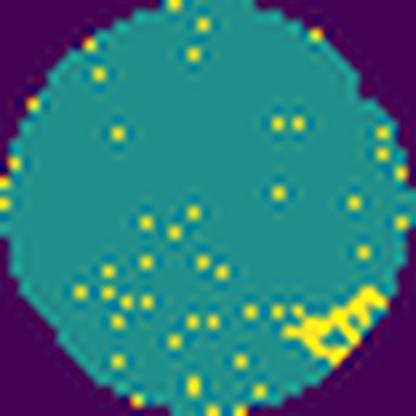Loc: (279, 286, 386, 372)
